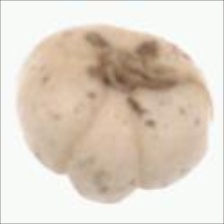L5: (63, 92, 143, 205), (83, 29, 197, 94)
L6: (14, 23, 215, 205)
